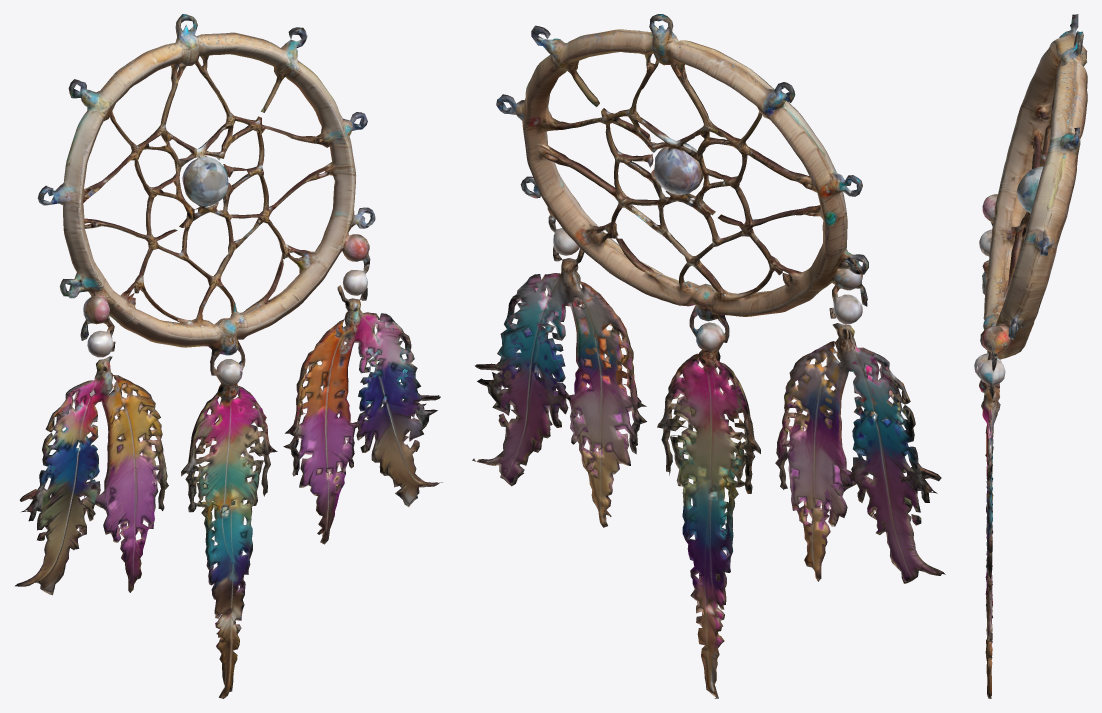
Rendered from dreamcatcher.glb.
3 renders of one model, left to right at view 1: azimuth 30°, elevation 25°; view 2: azimuth 150°, elevation 25°; view 3: azimuth 270°, elevation 25°, orthographic. The views are drawn at different scales.
Bounding box in the file's own units: 1.29 × 1.86 × 0.2864.
1 material, 1 textured.
